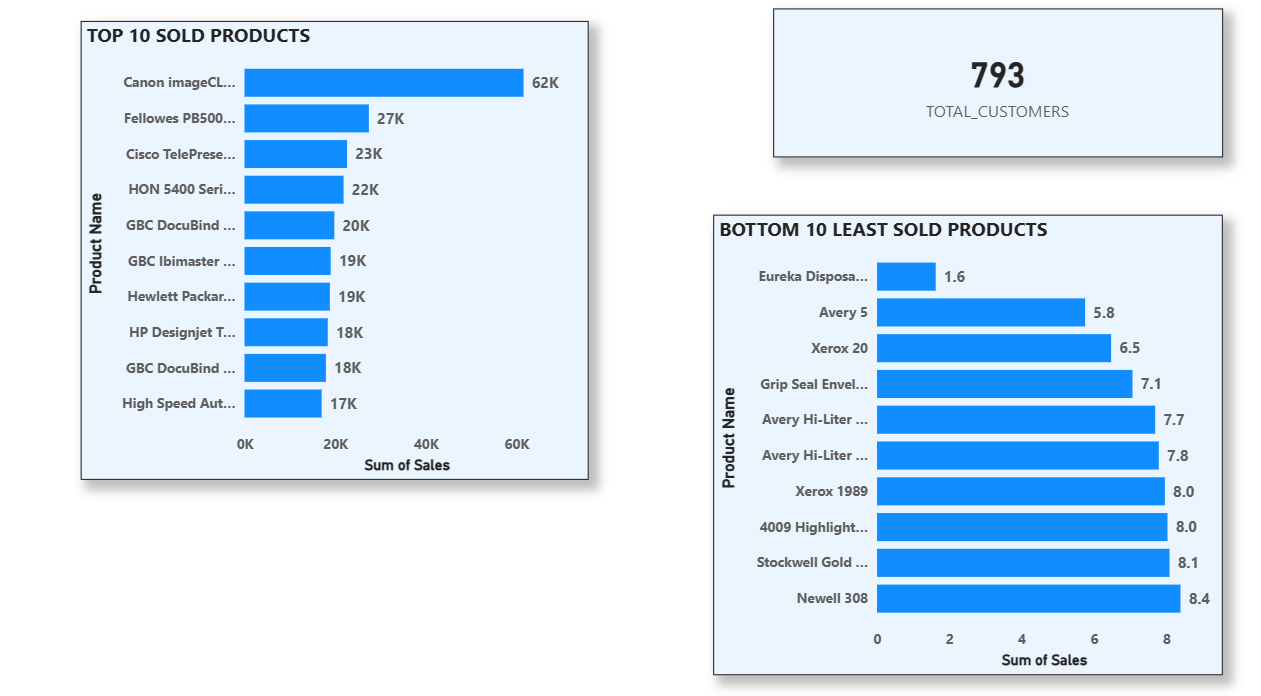

The page's visual inventory and layout, read from the dashboard file:
{"tool":"powerbi","page":{"name":"Page 2","canvas":[1280,720],"ordinal":1},"visuals":[{"type":"barChart","title":"TOP 10 SOLD PRODUCTS","fields":{"Category":["Superstore.Product Name"],"Y":["Sum(Superstore.Sales)"]},"box":[87.1,34.3,497.1,448.6],"z":0},{"type":"barChart","title":"BOTTOM 10 LEAST SOLD PRODUCTS","fields":{"Category":["Superstore.Product Name"],"Y":["Sum(Superstore.Sales)"]},"box":[705.7,224.3,498.6,450],"z":1000},{"type":"card","fields":{"Values":["Superstore.TOTAL_CUSTOMERS"]},"box":[764.3,21.4,440,145.7],"z":2000}]}

Visuals, with their boxes in screenshot pixels (x1, y1, x2, y2), scaled from the page's 1280x720 canvas onto the 1261x696 screenshot:
"TOP 10 SOLD PRODUCTS" barChart: (x1=86, y1=33, x2=576, y2=467)
"BOTTOM 10 LEAST SOLD PRODUCTS" barChart: (x1=695, y1=217, x2=1186, y2=652)
card - Superstore.TOTAL_CUSTOMERS: (x1=753, y1=21, x2=1186, y2=162)
